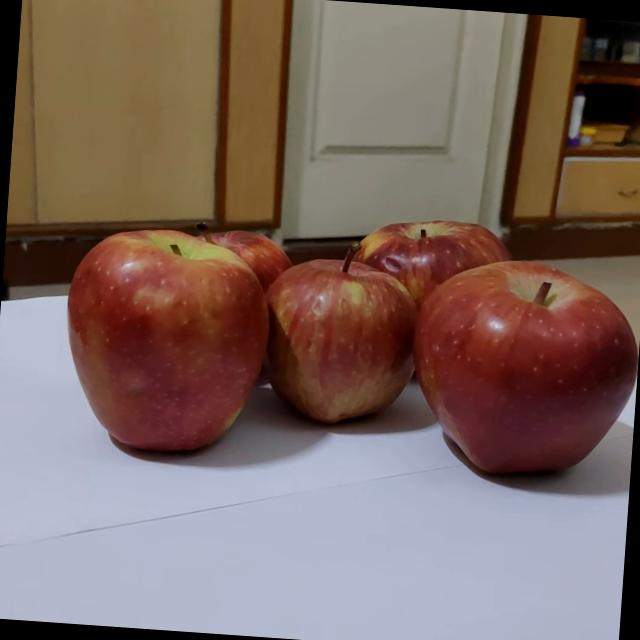apple: (389, 256, 638, 518), (342, 204, 550, 404), (52, 227, 252, 433), (236, 252, 414, 430), (164, 212, 315, 358)
